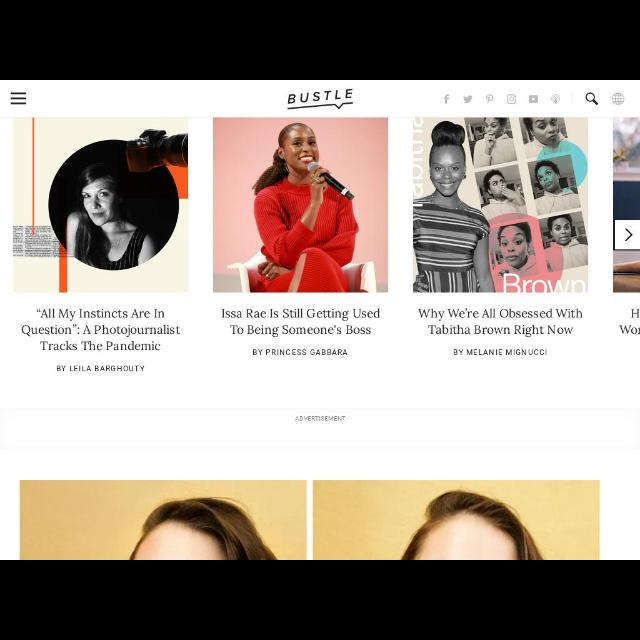button: (615, 220, 639, 248)
icon: (10, 91, 28, 107), (611, 94, 625, 105), (586, 93, 598, 105), (625, 226, 633, 244), (507, 93, 517, 103), (485, 94, 493, 105), (552, 94, 560, 105), (463, 95, 472, 104), (528, 95, 538, 103), (444, 94, 451, 105)
iframe: (2, 407, 640, 445)
image: (12, 116, 188, 298), (214, 117, 388, 293), (414, 116, 588, 292), (20, 480, 306, 560), (313, 480, 599, 560), (613, 119, 639, 294), (284, 87, 356, 109)
text: (21, 306, 180, 352), (220, 307, 380, 339), (420, 308, 582, 336), (57, 364, 145, 374), (453, 348, 547, 357), (252, 349, 350, 357), (618, 323, 638, 333), (631, 308, 639, 318)
